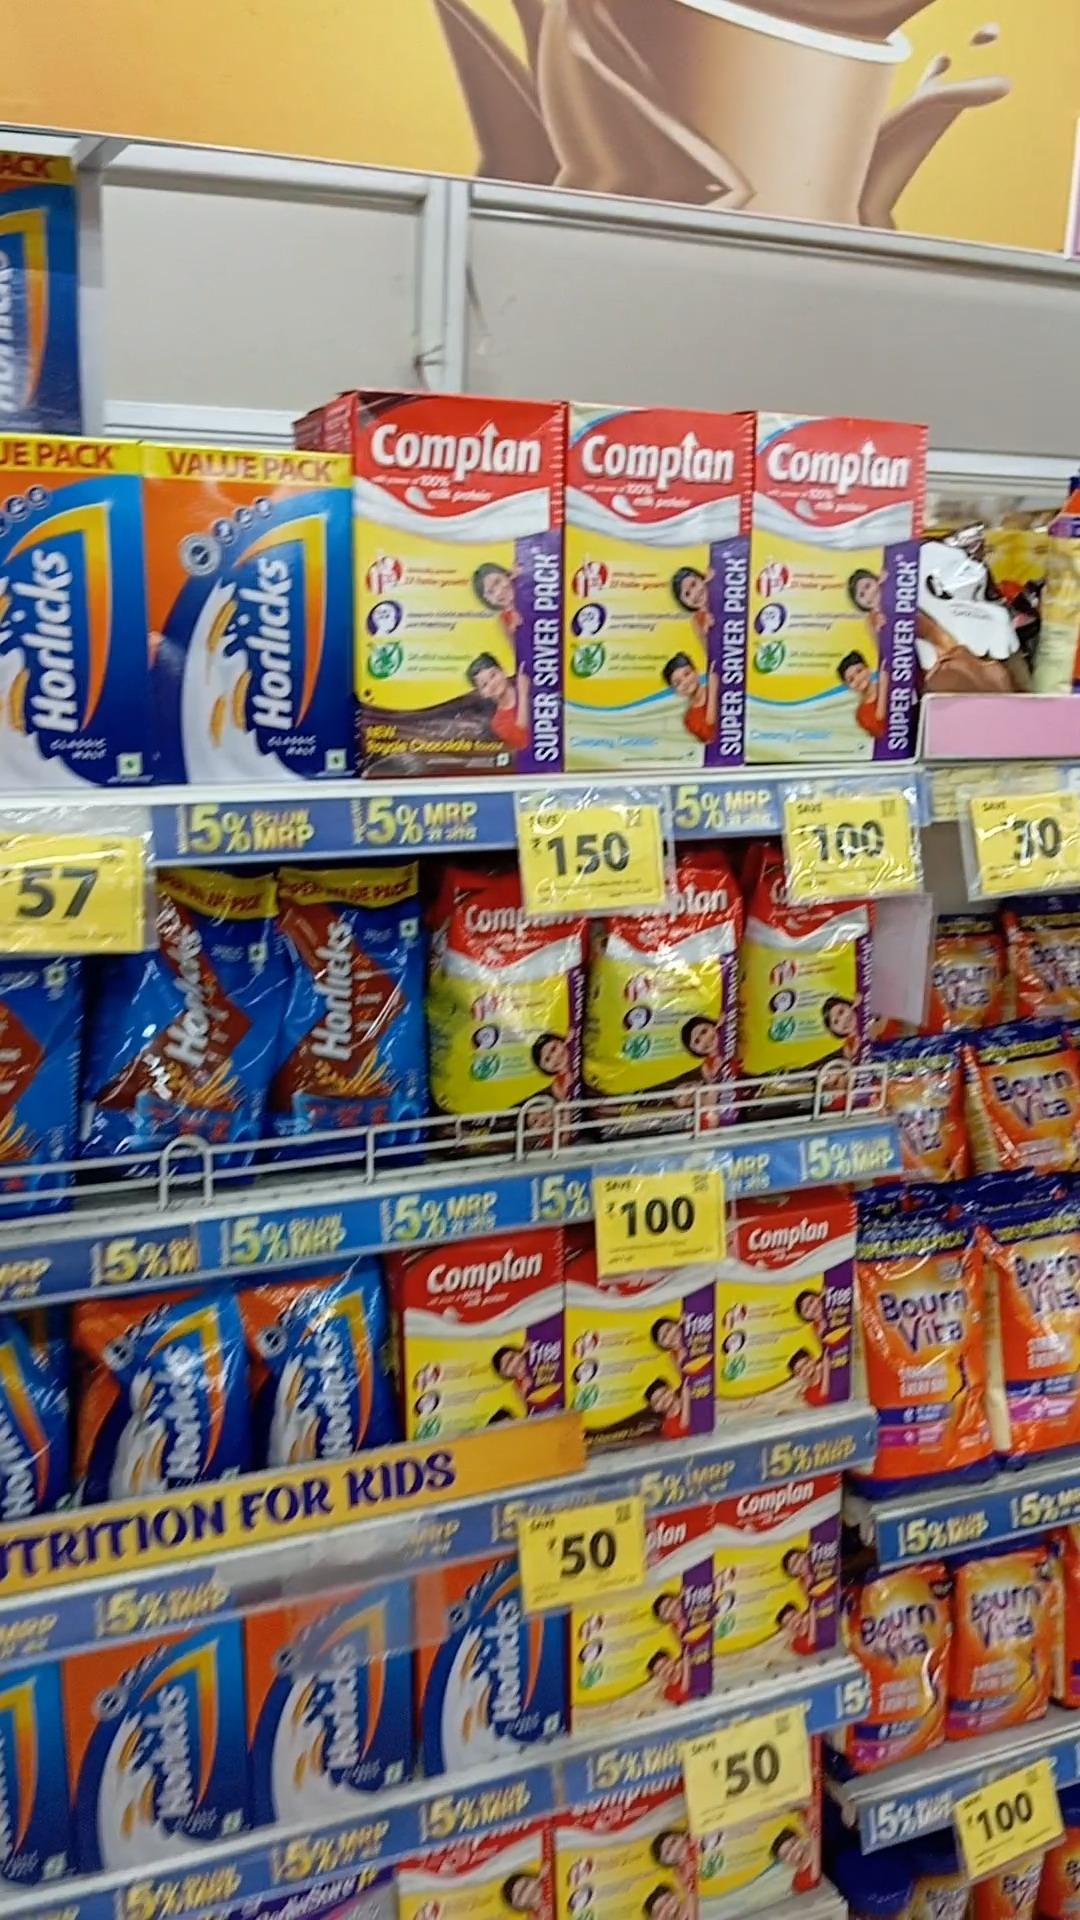BOURN_VITA_1_KG_POUCH: (865, 1212, 984, 1494), (989, 1196, 1080, 1472)
BOURN_VITA_500_G_POUCH: (855, 1568, 949, 1780), (953, 1549, 1055, 1742)
COMPLAN_CHOCOLATE_1_KG_PACK: (352, 402, 560, 775)
COMPLAN_CHOCOLATE_500_GMS_PACK: (559, 1244, 717, 1460), (396, 1234, 556, 1432)
COMPLAN_KESAR_BADAM_500_GMS_PACK: (723, 1196, 858, 1419), (716, 1491, 848, 1677), (571, 1575, 711, 1722)
COMPLAN_RC_POUCH_700_GMS_12: (430, 911, 582, 1153), (585, 899, 737, 1137), (742, 899, 874, 1112)
HORLICK_CHOCOLATE_750_G_POUCH: (92, 869, 265, 1175), (270, 865, 421, 1164)
HORLICK_CLASSIC_MALT_500_G_PACK: (70, 1639, 248, 1855), (257, 1589, 409, 1815), (421, 1561, 563, 1758)
HORLICK_CLASSIC_MALT_750_G_POUCH: (79, 1283, 244, 1499), (252, 1265, 390, 1470)
